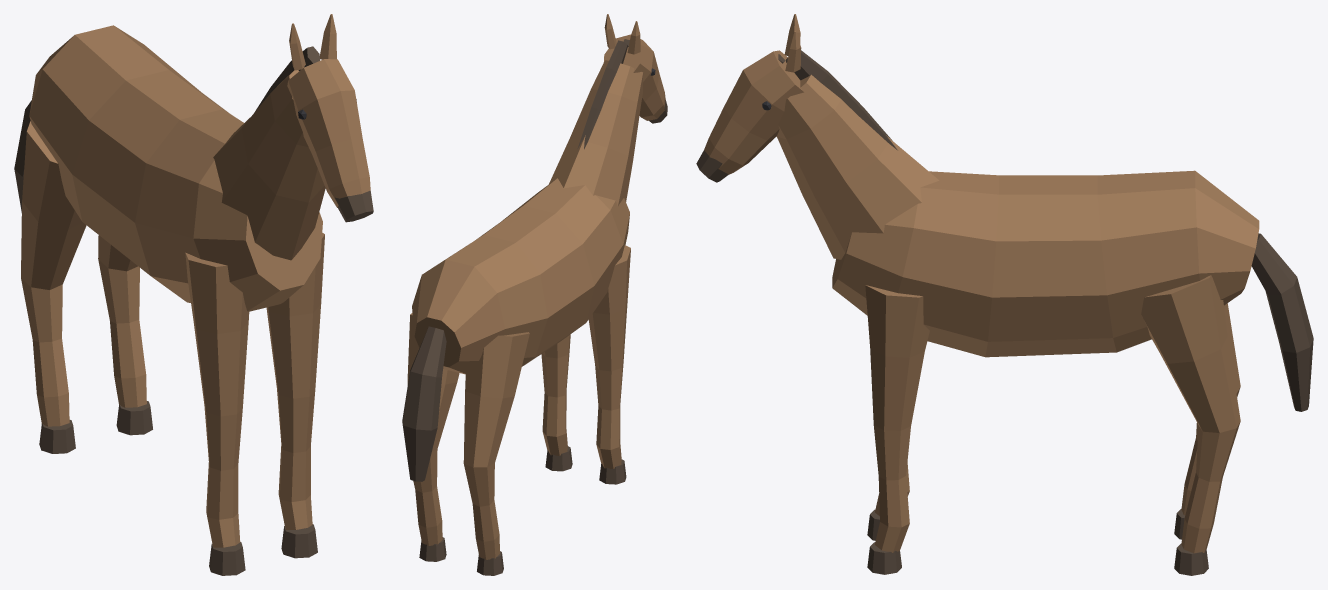
Rendered from SM_Horse_Brown.glb.
3 renders of one model, left to right at view 1: azimuth 30°, elevation 25°; view 2: azimuth 150°, elevation 25°; view 3: azimuth 270°, elevation 25°, orthographic. The views are drawn at different scales.
Visible parts, largest first — view 1: SM_Horse_Brown; view 2: SM_Horse_Brown; view 3: SM_Horse_Brown.
Boxes of the visible parts, x1,y1,x2,y2 form: SM_Horse_Brown: (14, 14, 373, 575); SM_Horse_Brown: (402, 14, 667, 575); SM_Horse_Brown: (696, 14, 1313, 575).
Size of the model in its own units: 0.59 by 2.28 by 2.41.
